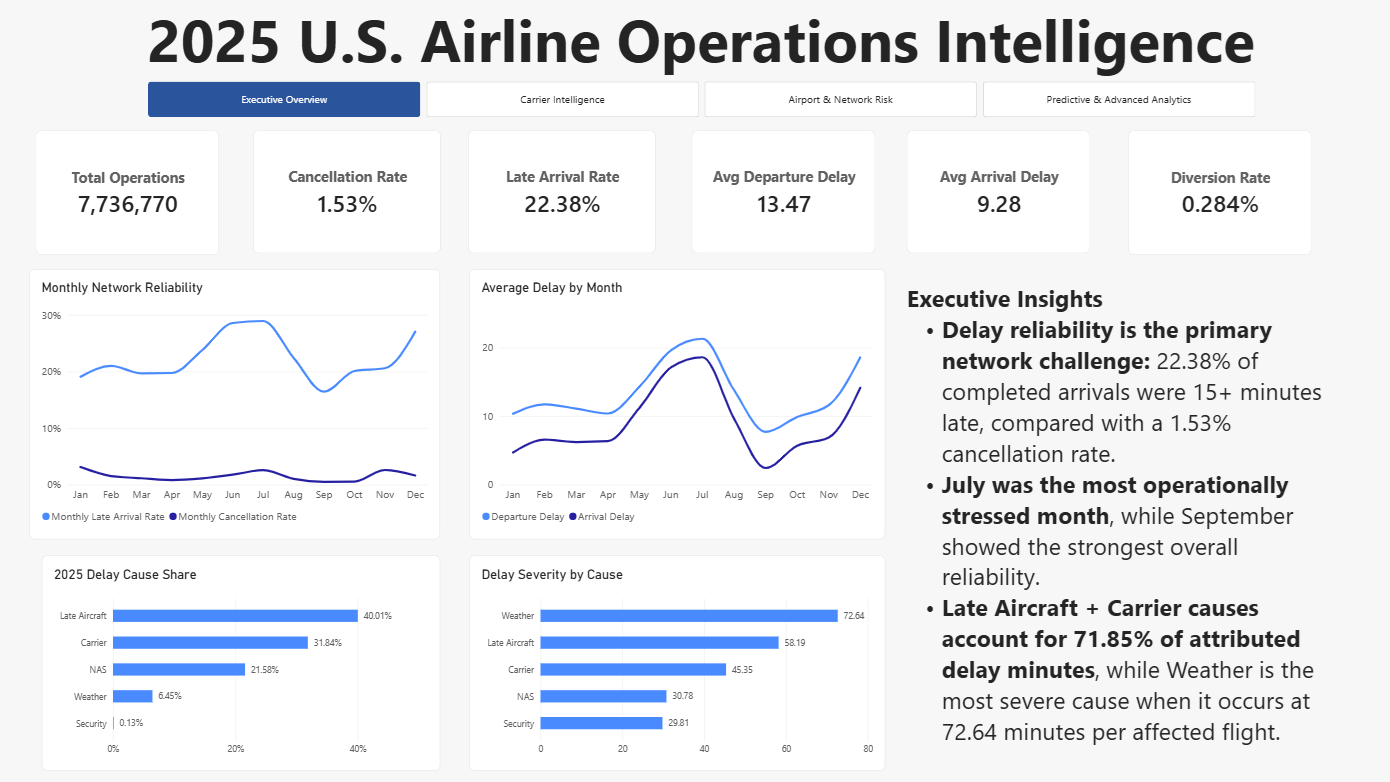

The page's visual inventory and layout, read from the dashboard file:
{"tool":"powerbi","page":{"name":"Executive Overview","canvas":[1920,1080],"ordinal":0},"visuals":[{"type":"textbox","box":[10.3,0,1910.1,113.2],"z":0},{"type":"cardVisual","fields":{"Data":["Sum(Executive Network Summary 2025.total_operations)"]},"box":[51.3,179.6,252.6,171.7],"z":1000},{"type":"cardVisual","fields":{"Data":["Annual Delay Cause 2025.Cancellation Rate KPI"]},"box":[349.3,179.6,258.6,169.7],"z":2000},{"type":"cardVisual","fields":{"Data":["Annual Delay Cause 2025.Late Arrival Rate KPI"]},"box":[645.4,179.6,258.6,169.7],"z":3000},{"type":"cardVisual","fields":{"Data":["Sum(Executive Network Summary 2025.avg_departure_delay_minutes)"]},"box":[953.3,179.6,252.6,169.7],"z":4000},{"type":"cardVisual","fields":{"Data":["Sum(Executive Network Summary 2025.avg_arrival_delay_minutes)"]},"box":[1247.4,179.6,252.6,169.7],"z":5000},{"type":"cardVisual","fields":{"Data":["Annual Delay Cause 2025.Diversion Rate KPI"]},"box":[1551.3,179.6,252.6,171.7],"z":6000},{"type":"lineChart","title":"Monthly Network Reliability","fields":{"Category":["Monthly Network Performance 2025.month_name"],"Y":["Annual Delay Cause 2025.Monthly Late Arrival Rate","Annual Delay Cause 2025.Monthly Cancellation Rate"]},"box":[43.1,371,563.9,371],"z":7000},{"type":"lineChart","title":"Average Delay by Month","fields":{"Category":["Monthly Network Performance 2025.month_name"],"Y":["Sum(Monthly Network Performance 2025.avg_departure_delay_minutes)","Sum(Monthly Network Performance 2025.avg_arrival_delay_minutes)"]},"box":[646.4,371,571.4,371],"z":8000},{"type":"clusteredBarChart","title":"2025 Delay Cause Share","fields":{"Category":["Annual Delay Cause 2025.delay_cause"],"Y":["Annual Delay Cause 2025.Delay Cause Share KPI"]},"box":[60,764.4,547.1,296],"z":9000},{"type":"clusteredBarChart","title":"Delay Severity by Cause","fields":{"Category":["Annual Delay Cause 2025.delay_cause"],"Y":["Sum(Annual Delay Cause 2025.avg_cause_minutes_per_affected_flight)"]},"box":[646.4,764.4,571.4,296],"z":10000},{"type":"textbox","box":[1247.8,371,595.8,689.5],"z":11000},{"type":"pageNavigator","box":[205.3,112.5,1521.7,49.3],"z":12000}]}

Visuals, with their boxes in screenshot pixels (x1, y1, x2, y2), scaled from the page's 1920x1080 canvas onto the 1390x782 screenshot:
textbox: <bbox>7, 0, 1389, 82</bbox>
cardVisual - Sum(Executive Network Summary 2025.total_operations): <bbox>37, 130, 220, 254</bbox>
cardVisual - Annual Delay Cause 2025.Cancellation Rate KPI: <bbox>253, 130, 440, 253</bbox>
cardVisual - Annual Delay Cause 2025.Late Arrival Rate KPI: <bbox>467, 130, 654, 253</bbox>
cardVisual - Sum(Executive Network Summary 2025.avg_departure_delay_minutes): <bbox>690, 130, 873, 253</bbox>
cardVisual - Sum(Executive Network Summary 2025.avg_arrival_delay_minutes): <bbox>903, 130, 1086, 253</bbox>
cardVisual - Annual Delay Cause 2025.Diversion Rate KPI: <bbox>1123, 130, 1306, 254</bbox>
"Monthly Network Reliability" lineChart: <bbox>31, 269, 439, 537</bbox>
"Average Delay by Month" lineChart: <bbox>468, 269, 882, 537</bbox>
"2025 Delay Cause Share" clusteredBarChart: <bbox>43, 553, 440, 768</bbox>
"Delay Severity by Cause" clusteredBarChart: <bbox>468, 553, 882, 768</bbox>
textbox: <bbox>903, 269, 1335, 768</bbox>
pageNavigator: <bbox>149, 81, 1250, 117</bbox>
